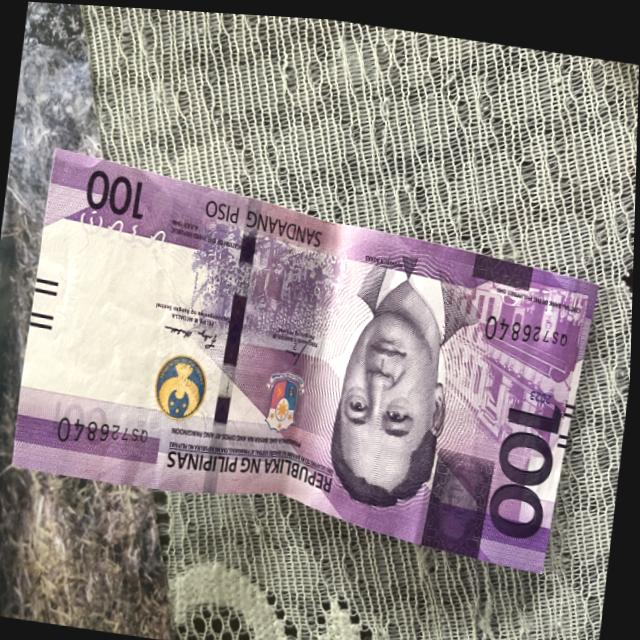concealed_value: (423, 439, 496, 556)
security_thread: (199, 191, 268, 501)
see_through_mark: (71, 197, 178, 258)
serial_number: (47, 401, 161, 469), (479, 302, 577, 349)
value: (482, 391, 569, 543)
